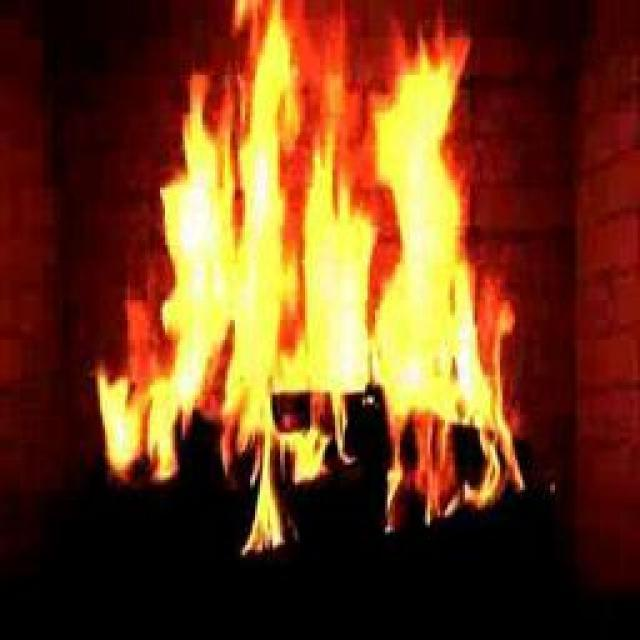Fire: (178, 41, 480, 447)
